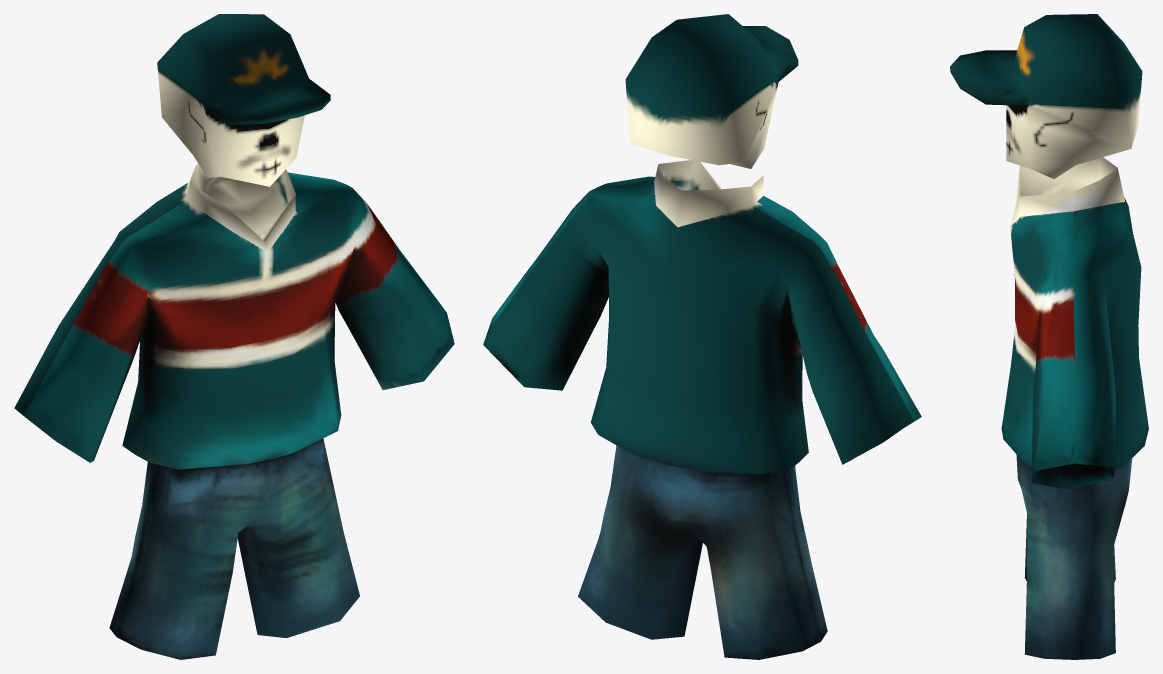
The model's file is sol.obj.
3 renders of one model, left to right at view 1: azimuth 30°, elevation 25°; view 2: azimuth 150°, elevation 25°; view 3: azimuth 270°, elevation 25°, orthographic.
Visible parts, largest first — view 1: submesh; view 2: submesh; view 3: submesh.
Part boxes in pixels (box(x1,y1,x2,y2)): submesh: box(14, 14, 454, 659); submesh: box(483, 14, 921, 659); submesh: box(950, 14, 1148, 659).
Size of the model in its own units: 45.02 by 62.26 by 18.53.
Materials: 1 (1 with a texture image).
